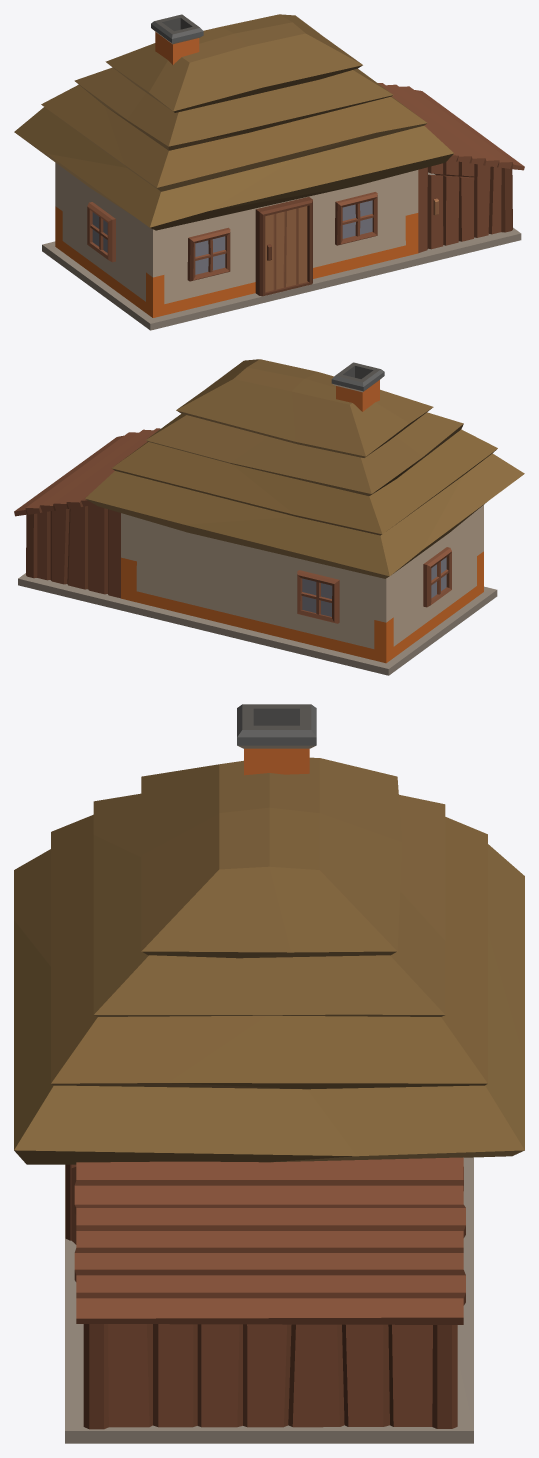
File: houses_small_1.fbx
The picture shows the model from 3 angles, top to bottom: view 1: azimuth 30°, elevation 25°; view 2: azimuth 150°, elevation 25°; view 3: azimuth 270°, elevation 25°; orthographic projection. The views are drawn at different scales.
Visible parts, largest first — view 1: house_small_1; view 2: house_small_1; view 3: house_small_1.
Boxes of the visible parts, box(x1,y1,x2,y2) form: house_small_1: box(14, 14, 524, 330); house_small_1: box(14, 359, 524, 675); house_small_1: box(14, 704, 524, 1443).
Size of the model in its own units: 441 by 263 by 264.
